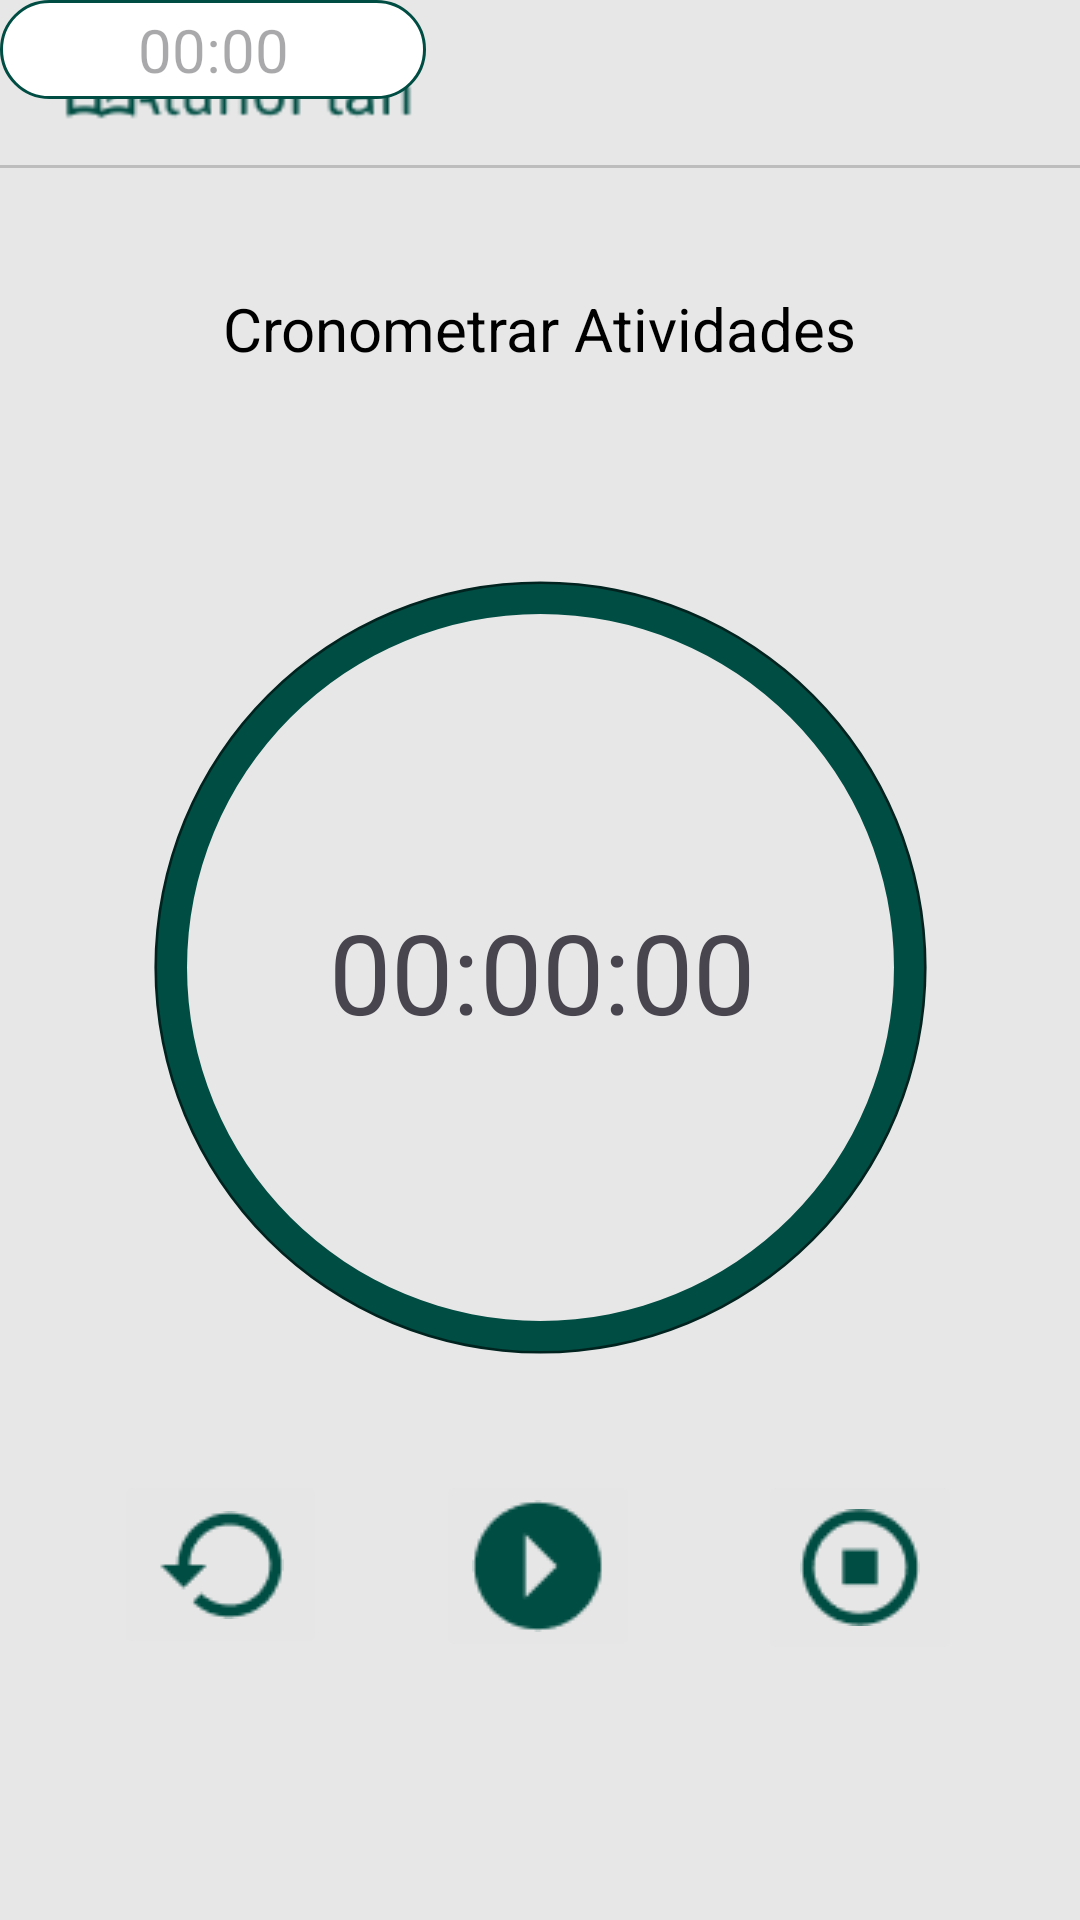

Locate icon controls on the screen. Image size 1080*1920, boxes as box=[x1, y1, x2, y2].
reset: box=[160, 1511, 284, 1619]
start: box=[472, 1500, 602, 1632]
stopp: box=[800, 1509, 920, 1626]
